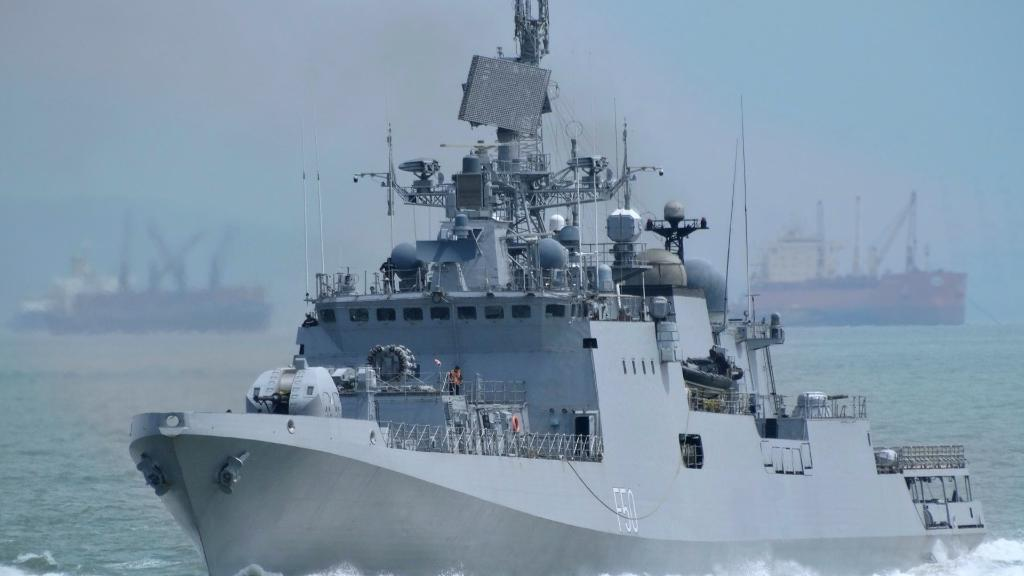Warship: (126, 10, 992, 576)
